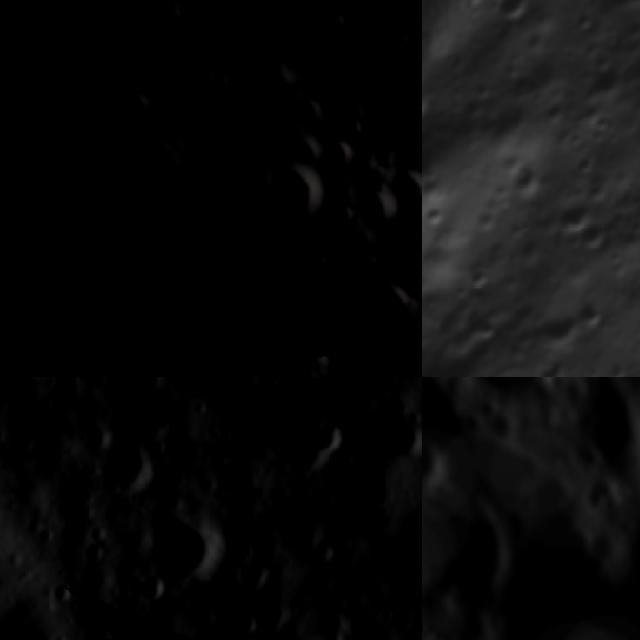crater: (16, 68, 182, 237), (422, 447, 555, 640), (536, 377, 640, 495), (309, 432, 422, 540), (126, 498, 228, 598), (262, 398, 357, 494), (443, 377, 580, 419), (607, 377, 640, 551), (87, 0, 189, 53), (263, 157, 331, 231), (92, 434, 152, 498), (346, 182, 397, 246), (263, 333, 332, 377), (245, 588, 302, 640), (365, 281, 420, 332), (383, 416, 422, 471), (41, 377, 98, 414), (387, 163, 422, 216), (3, 422, 44, 467), (233, 553, 272, 595), (312, 604, 355, 640), (235, 377, 304, 399), (318, 128, 352, 172), (236, 72, 270, 113), (486, 0, 535, 28), (334, 112, 368, 144), (82, 518, 114, 550), (81, 422, 112, 455), (118, 611, 152, 640), (310, 537, 340, 569), (147, 434, 176, 466), (0, 541, 14, 607), (76, 542, 108, 570), (422, 84, 441, 131), (31, 518, 60, 548), (46, 578, 75, 607), (186, 397, 210, 423), (414, 40, 422, 80)
